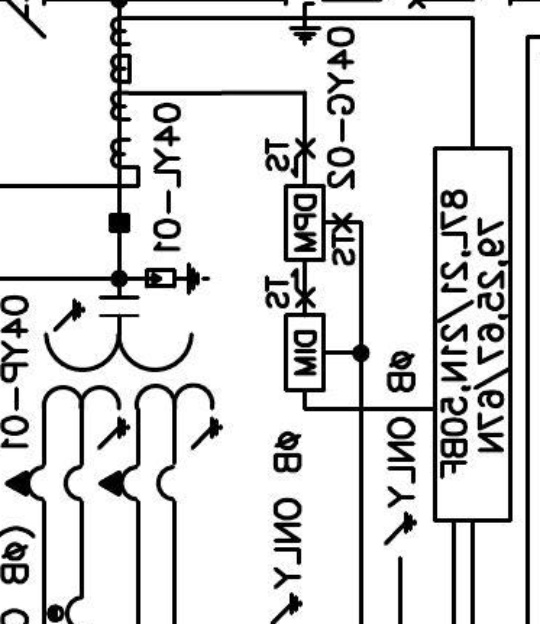115_cvt_1p: (4, 294, 225, 505)
115_la: (144, 261, 211, 296)
DIM: (284, 313, 327, 392)
DPM: (283, 183, 326, 262)
